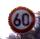Speed Limit -60-: (7, 5, 34, 33)
